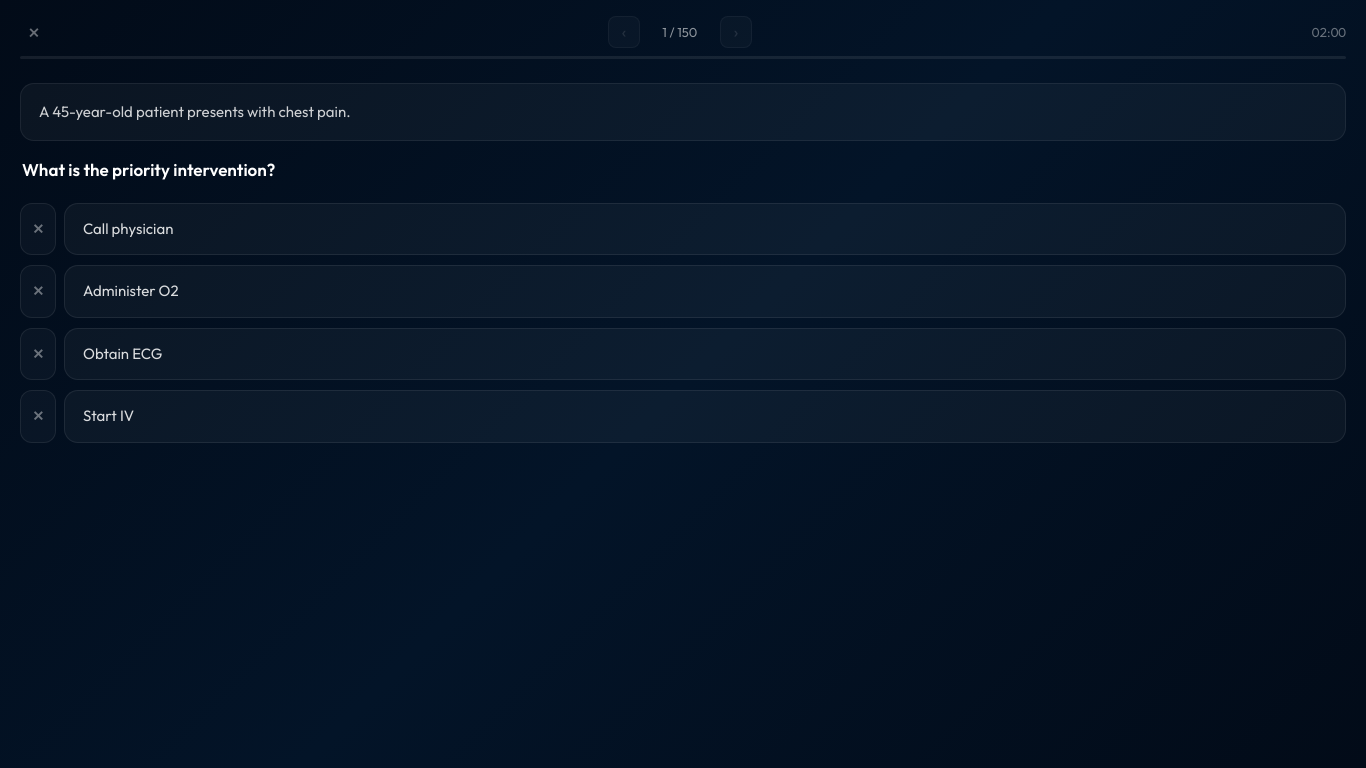
Test case: CATScreen › shows exit confirmation when exit button clicked
This screenshot has width=1366, height=768.
Click the button named "Exit CAT" at (34, 32), box [20, 17, 48, 47]
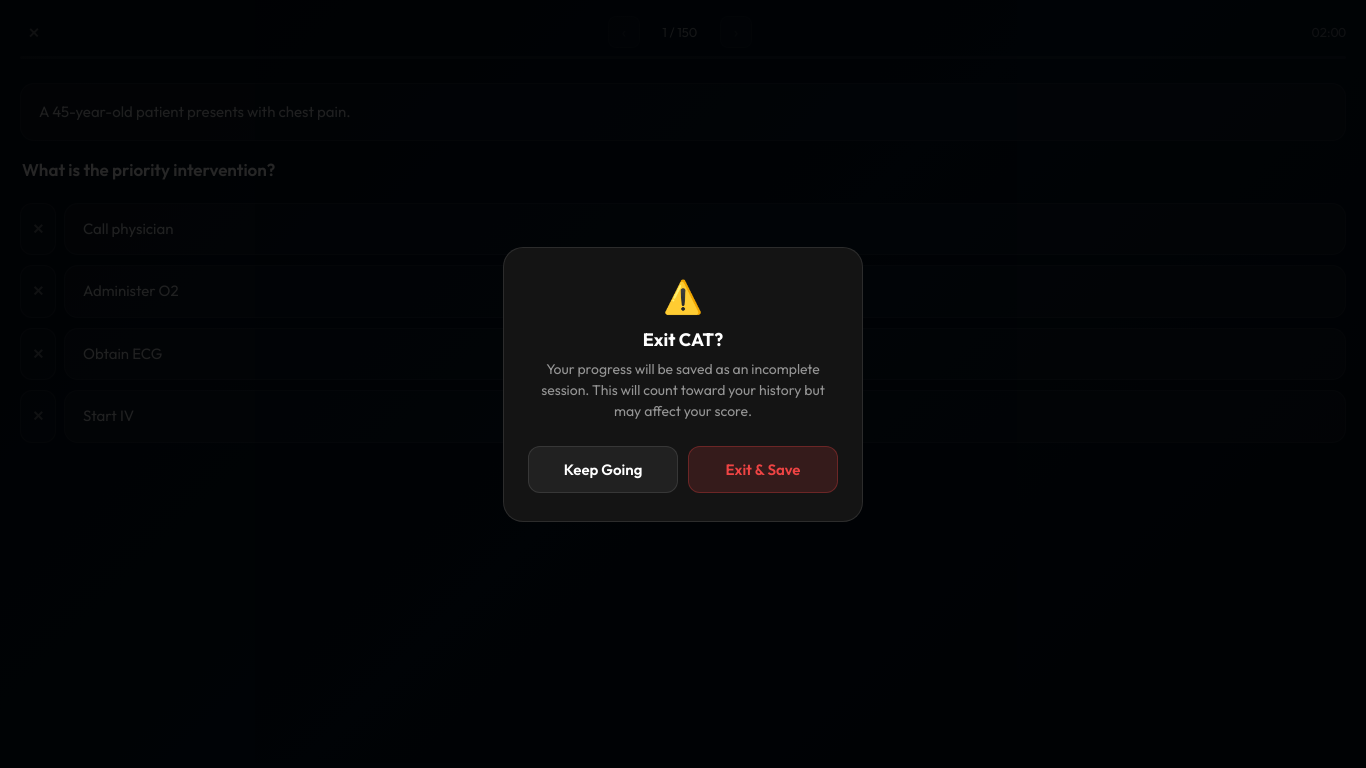
Result: the heading "Exit CAT?" is shown at [643, 328, 723, 350]
Result: the button "Keep Going" is shown at [528, 446, 678, 492]
Result: the button "Exit & Save" is shown at [688, 446, 838, 492]
